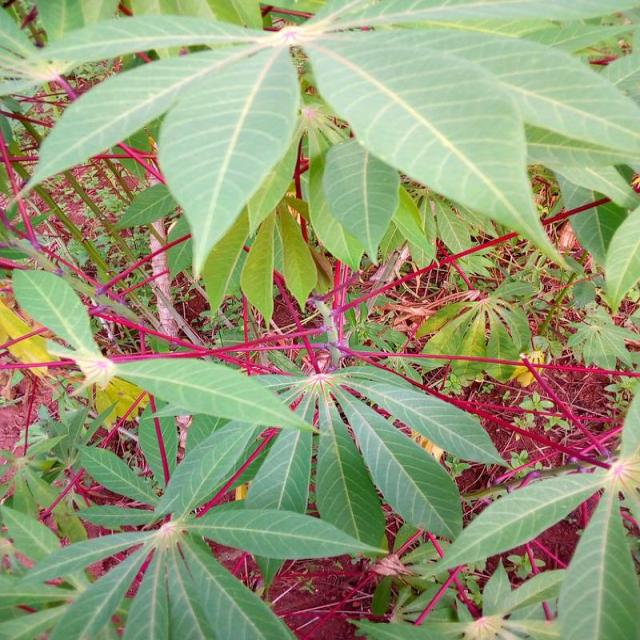cassava leaf: (9, 0, 638, 319), (155, 38, 302, 280)
